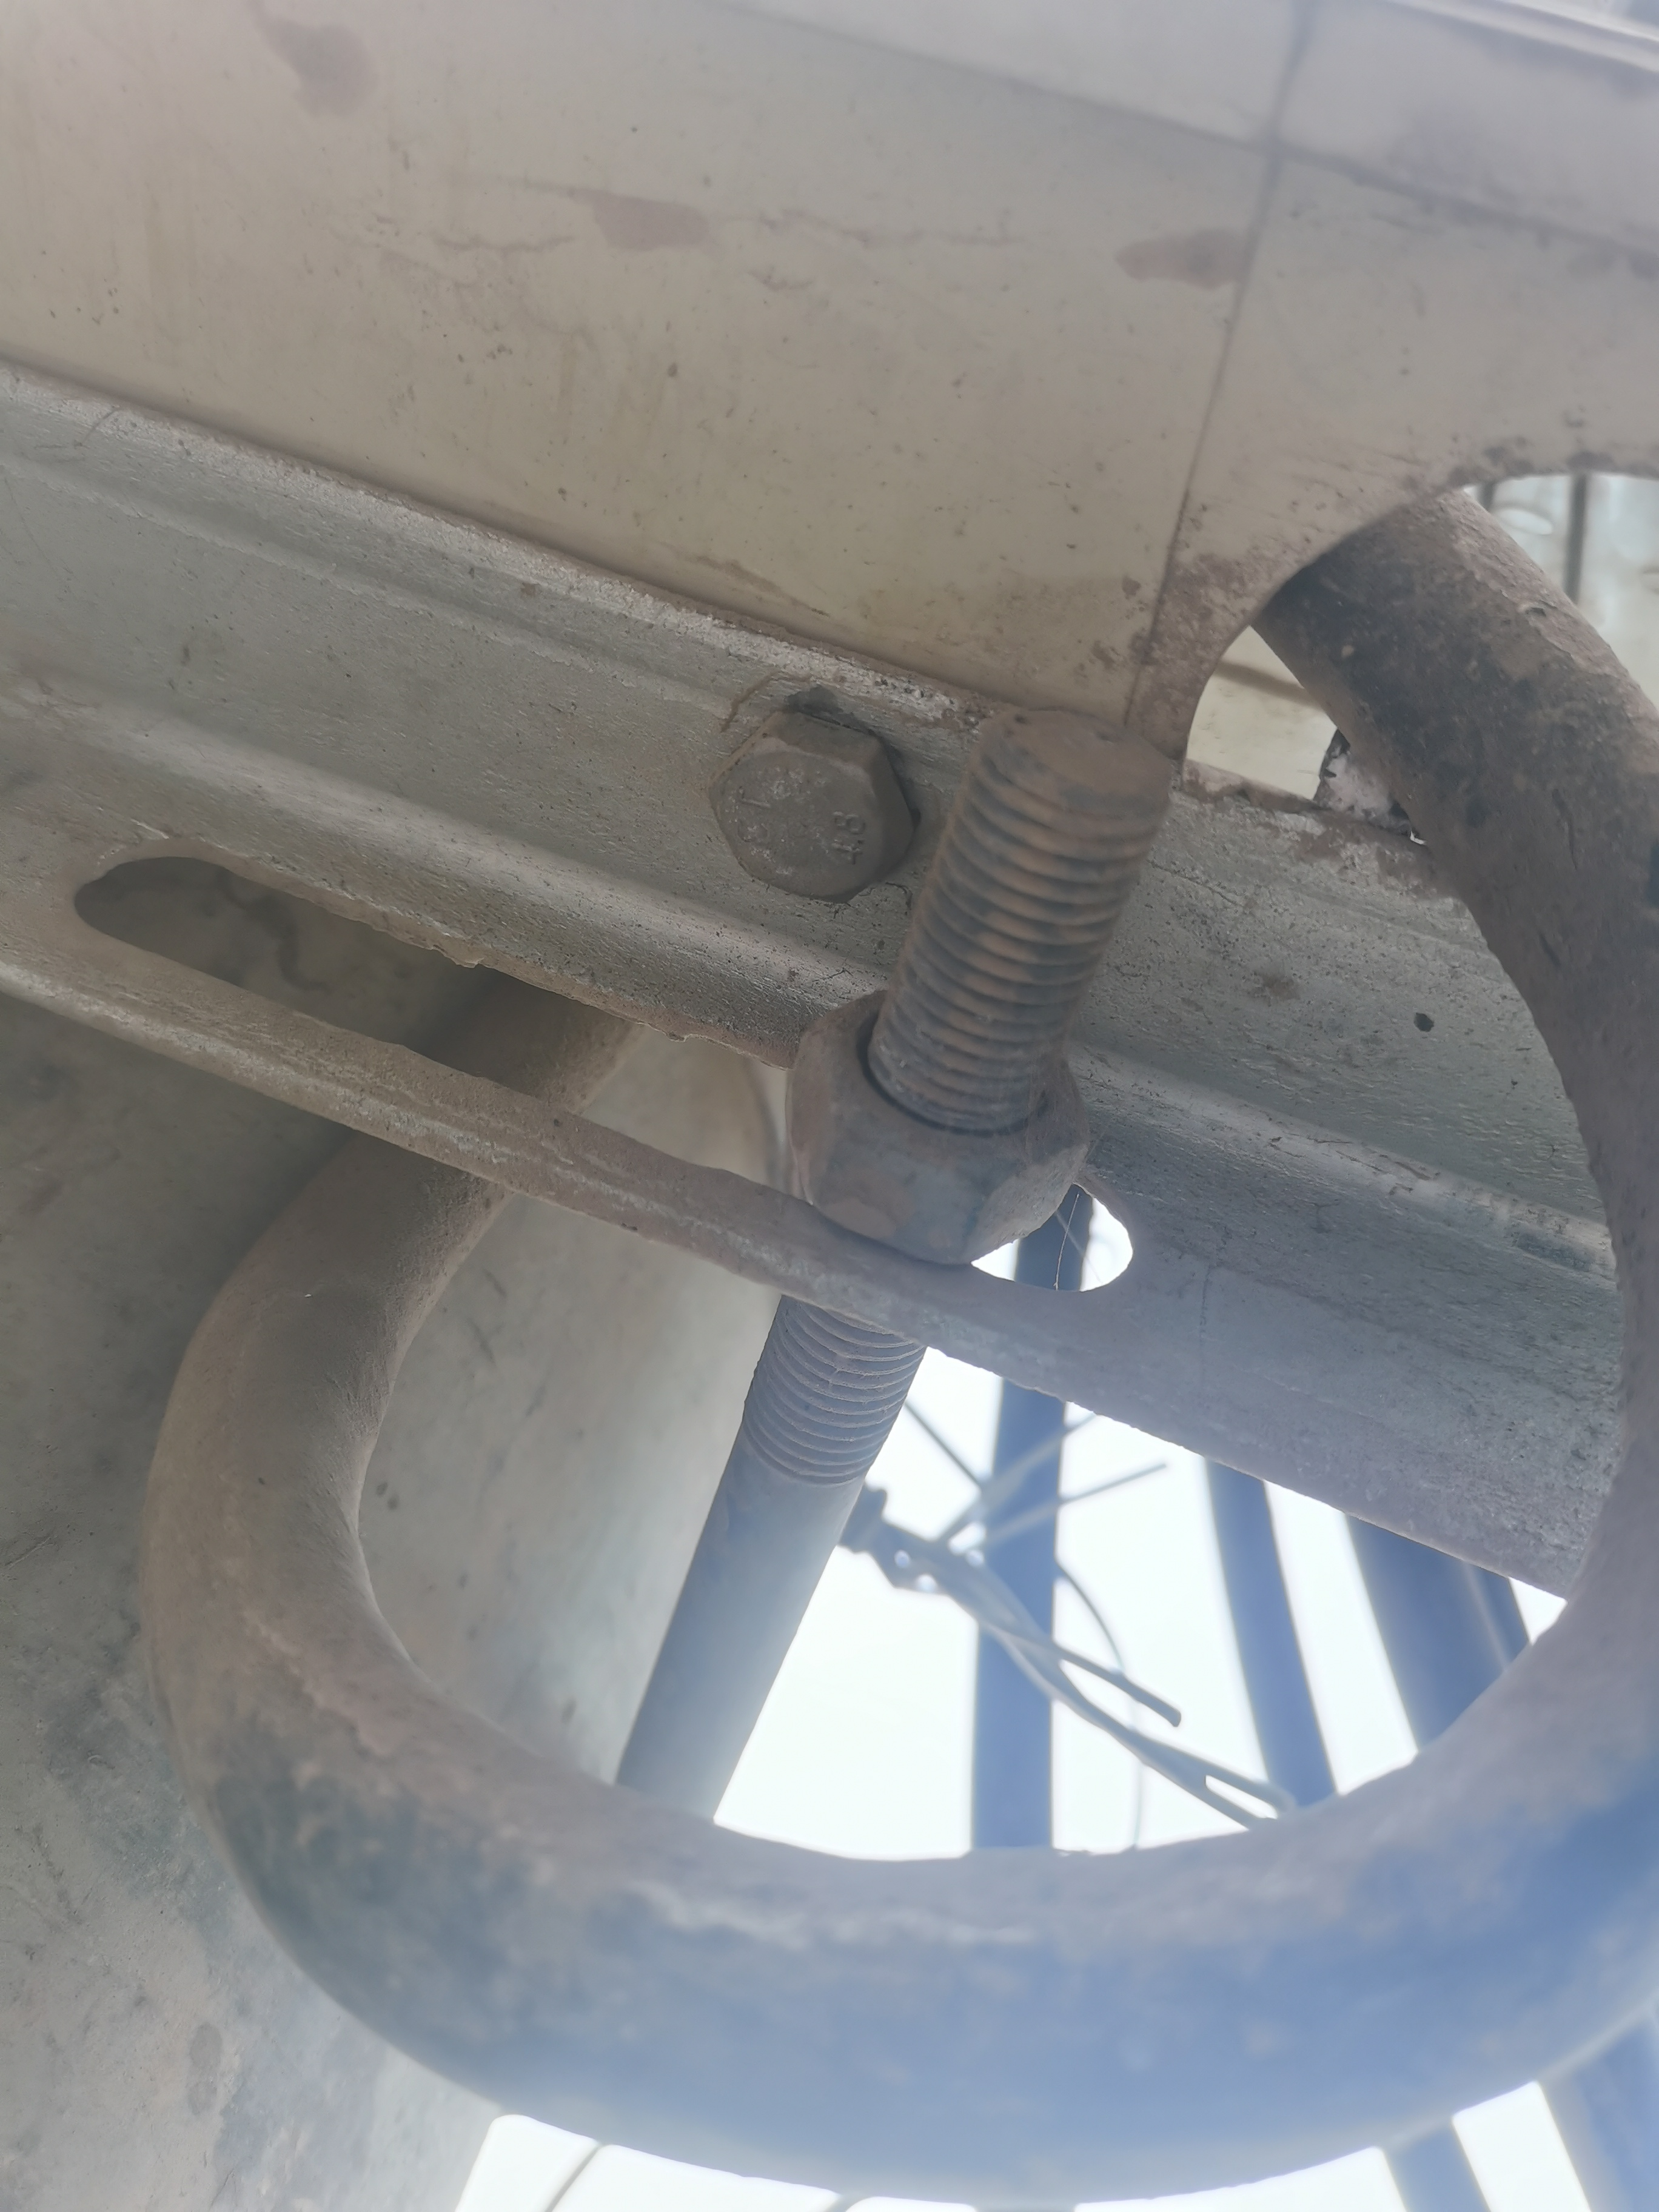bolt_a: (701, 700, 927, 913)
bolt_b: (772, 961, 1098, 1263)
